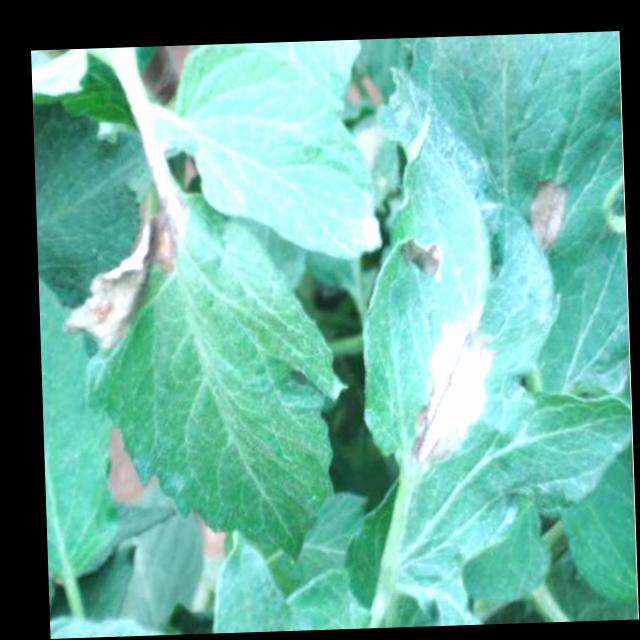Early_blight: (51, 151, 193, 357), (396, 304, 499, 468), (526, 174, 566, 248), (396, 237, 446, 282)
